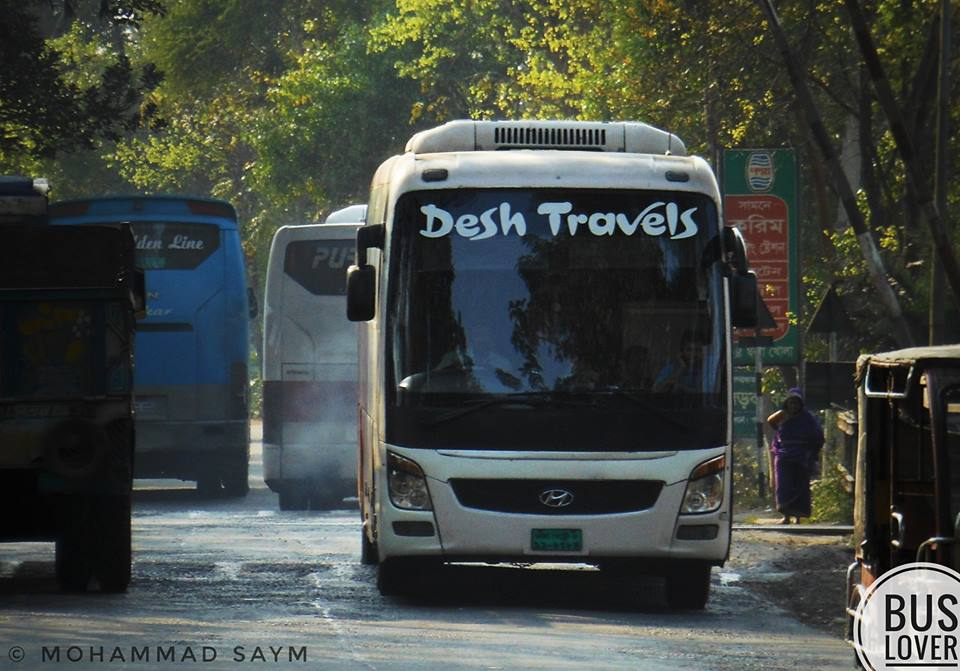bus: (358, 107, 749, 596), (1, 196, 145, 582), (120, 169, 260, 509), (255, 194, 389, 528)
easybike: (839, 330, 960, 565)
